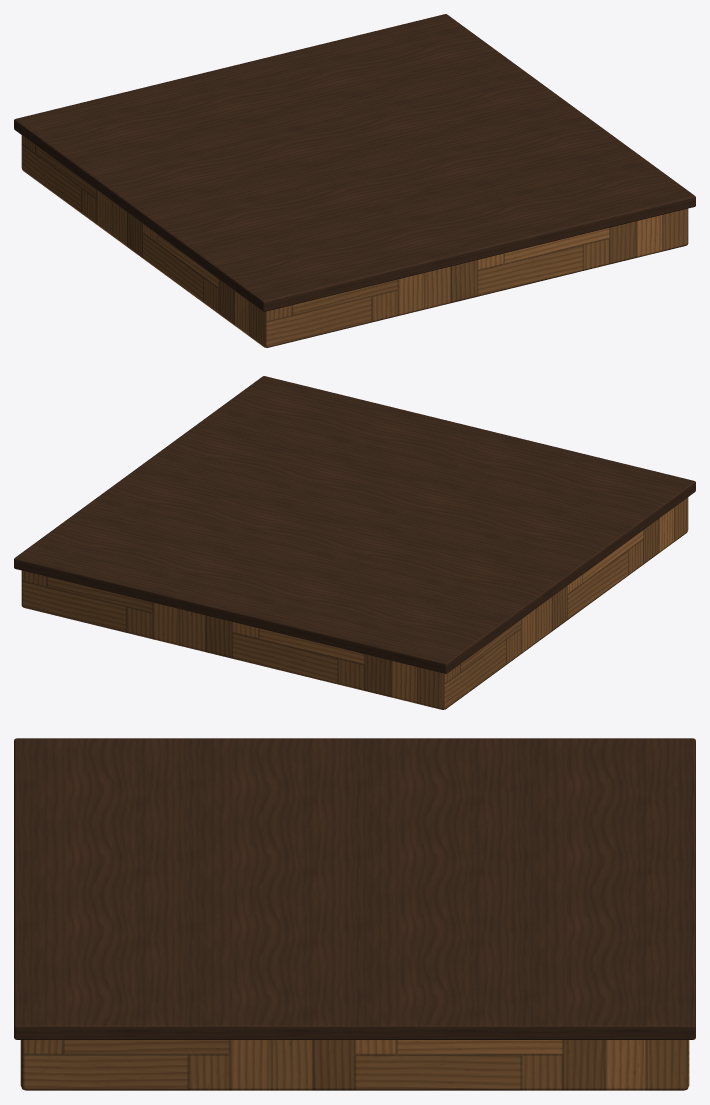
File: estrade_v2.glb
The picture shows the model from 3 angles, top to bottom: view 1: azimuth 30°, elevation 25°; view 2: azimuth 150°, elevation 25°; view 3: azimuth 270°, elevation 25°; orthographic projection. The views are drawn at different scales.
Visible parts, largest first — view 1: estrade_v2; view 2: estrade_v2; view 3: estrade_v2.
Part boxes in pixels (x1,y1,x2,y2): estrade_v2: (14,14,695,347); estrade_v2: (14,376,695,709); estrade_v2: (14,738,695,1090).
Bounding box in the file's own units: 2.04 × 0.23 × 2.04.
Materials: 2 (2 with a texture image).
